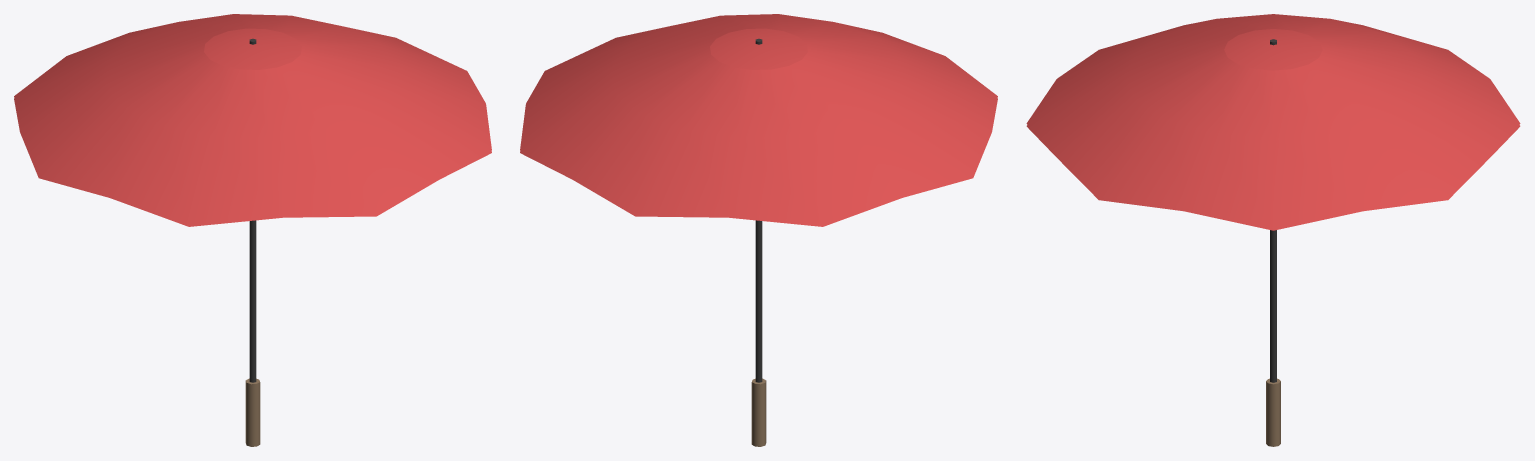
Rendered from umbrella.glb.
The picture shows the model from 3 angles, left to right: view 1: azimuth 30°, elevation 25°; view 2: azimuth 150°, elevation 25°; view 3: azimuth 270°, elevation 25°; orthographic projection.
Visible parts, largest first — view 1: umbrella; view 2: umbrella; view 3: umbrella.
Boxes of the visible parts, x1,y1,x2,y2 form: umbrella: [14, 14, 491, 446]; umbrella: [520, 14, 997, 446]; umbrella: [1026, 14, 1520, 446].
Bounding box in the file's own units: 1 × 0.9 × 1.
